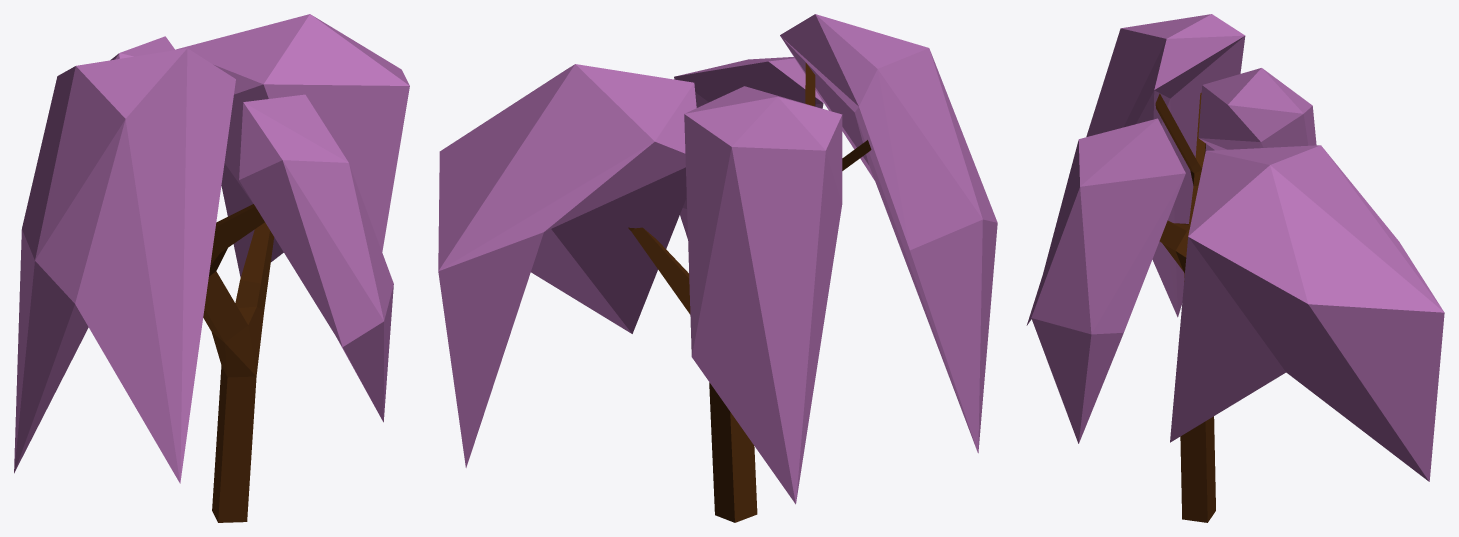
Rendered from tree 3 purple.glb.
3 renders of one model, left to right at view 1: azimuth 30°, elevation 25°; view 2: azimuth 150°, elevation 25°; view 3: azimuth 270°, elevation 25°, orthographic. The views are drawn at different scales.
Visible parts, largest first — view 1: Icosphere, Icosphere.002, Icosphere.001, Plane, Icosphere.003; view 2: Icosphere.001, Icosphere.003, Icosphere, Plane, Icosphere.002; view 3: Icosphere.001, Icosphere.002, Icosphere, Icosphere.003, Plane.
Part boxes in pixels (<box>): Icosphere: <box>14,48,235,483</box>; Icosphere.002: <box>239,94,393,422</box>; Icosphere.001: <box>175,14,409,277</box>; Plane: <box>203,204,274,522</box>; Icosphere.003: <box>110,36,174,60</box>; Icosphere.001: <box>438,64,696,467</box>; Icosphere.003: <box>684,86,842,504</box>; Icosphere: <box>780,14,997,453</box>; Plane: <box>628,62,871,522</box>; Icosphere.002: <box>674,57,823,238</box>; Icosphere.001: <box>1170,145,1444,481</box>; Icosphere.002: <box>1031,118,1185,443</box>; Icosphere: <box>1026,14,1245,325</box>; Icosphere.003: <box>1198,68,1316,150</box>; Plane: <box>1155,92,1215,522</box>.
Bounding box in the file's own units: 8.94 × 9.23 × 7.77.
